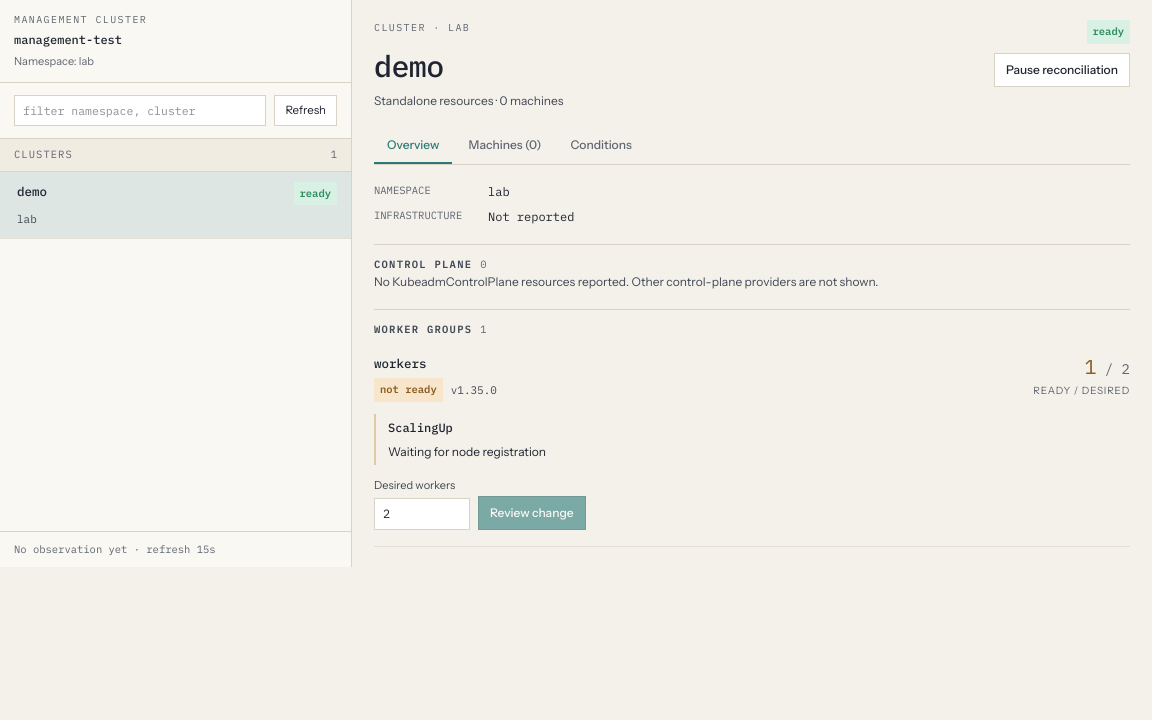
Cluster API workspace › requires a named confirmation and sends the displayed resource version when scaling to zero
The image size is (1152, 720).
Replace the text in the number field with "0" at (422, 514), box [374,498,470,530]
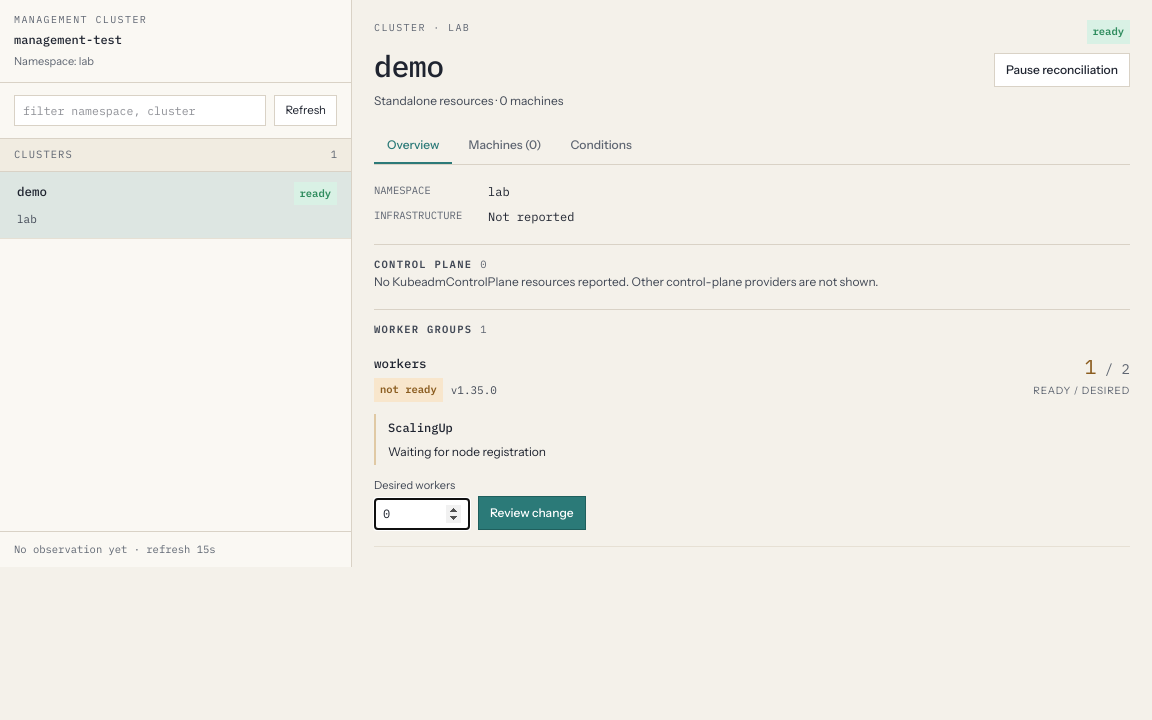
Click the button "Review change" at (532, 513), box [478,496,586,530]
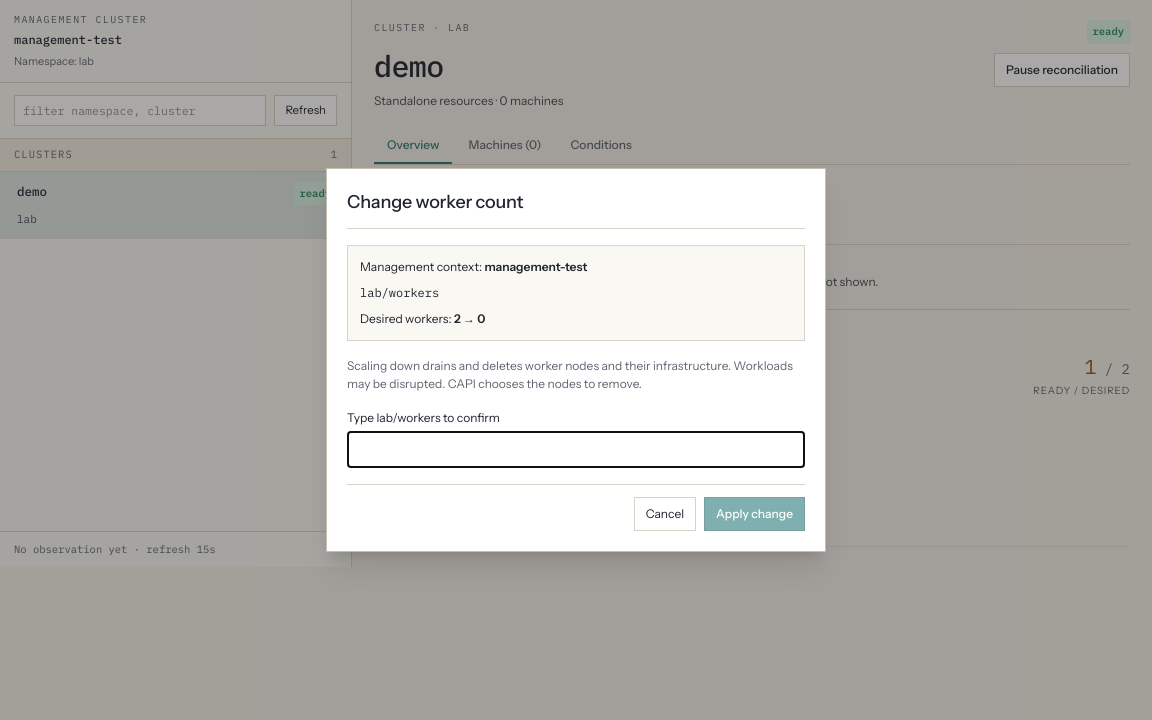
Result: the text "Scaling down drains and deletes" is shown at [347,358,793,391]
Result: the button "Apply change" is disabled at [704,497,805,531]
Type "lab/workers" into the field named "Confirm resource name" at (576, 450), box [347,431,805,468]
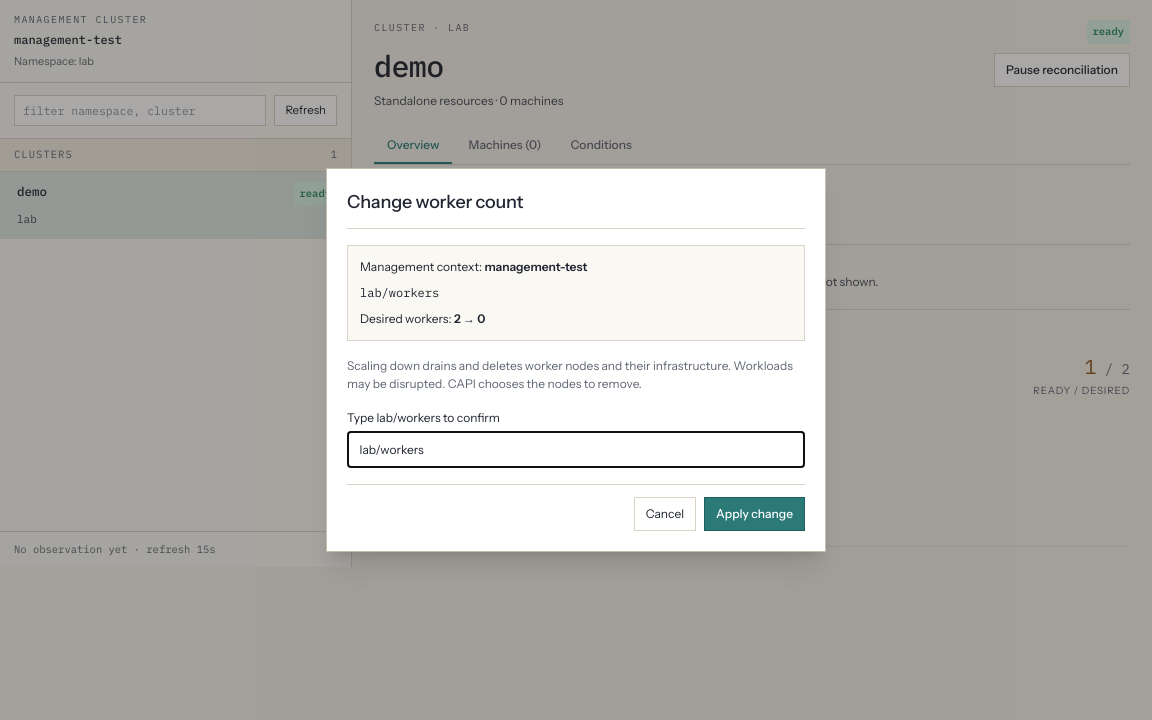
Click the button "Apply change" at (755, 514), box [704,497,805,531]
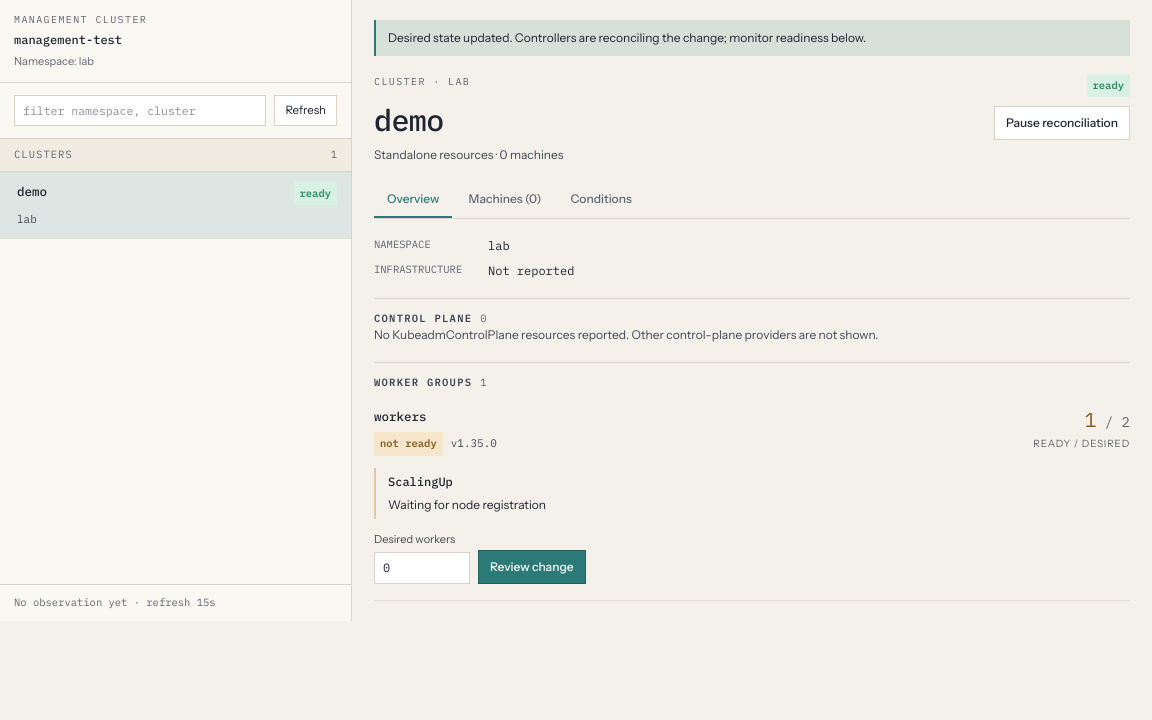
Result: the message shows "Desired state updated" at [388,30,866,45]
